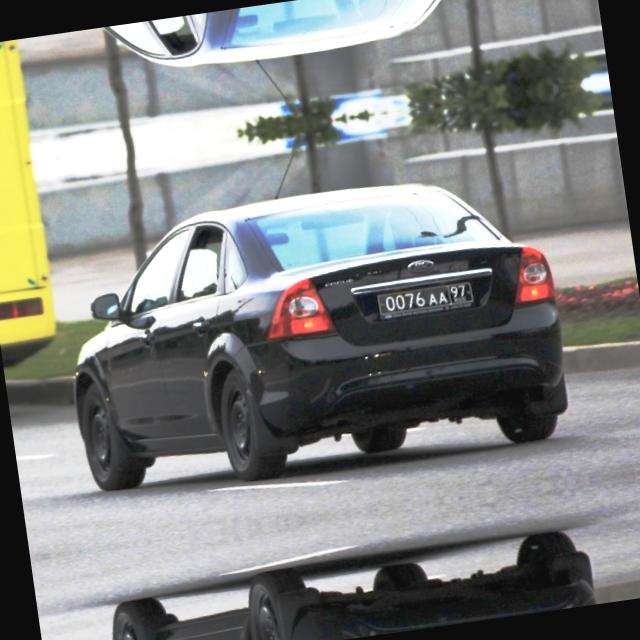military: (375, 278, 478, 322)
